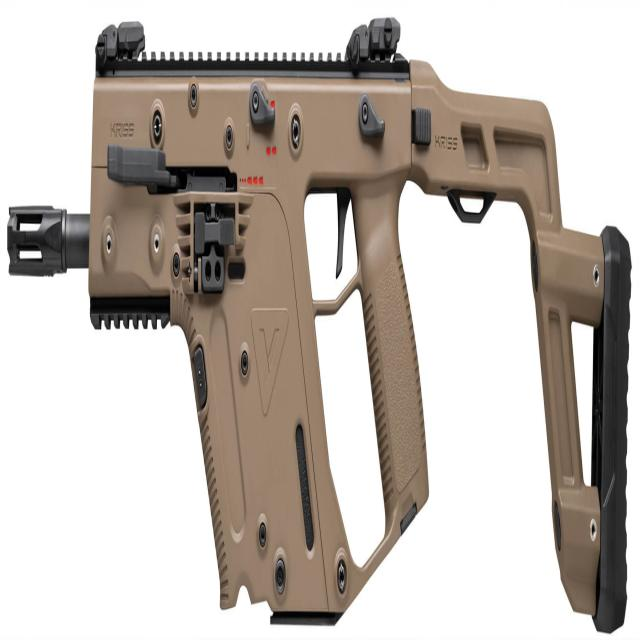SMG: (7, 16, 632, 634)
